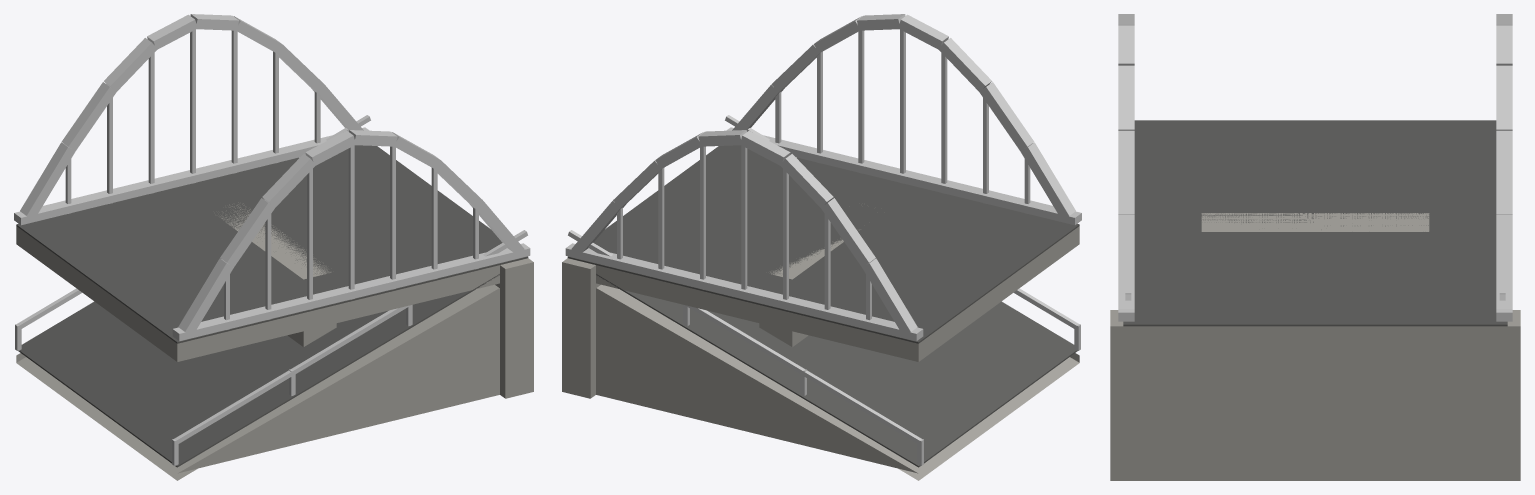
The model's file is most_obloukovy.glb.
The picture shows the model from 3 angles, left to right: view 1: azimuth 30°, elevation 25°; view 2: azimuth 150°, elevation 25°; view 3: azimuth 270°, elevation 25°; orthographic projection. The views are drawn at different scales.
Visible parts, largest first — view 1: stred, hlava, pilir; view 2: stred, hlava, pilir; view 3: stred, hlava, pilir.
Part boxes in pixels (x1,y1,x2,y2): stred: (14,14,530,361); hlava: (15,115,533,480); pilir: (220,202,336,346); stred: (565,14,1081,361); hlava: (562,115,1080,480); pilir: (759,229,860,346); stred: (1118,14,1512,348); hlava: (1110,293,1520,480); pilir: (1201,213,1429,231).
Bounding box in the file's own units: 14.96 × 12.29 × 12.6.
1 material, 1 textured.
